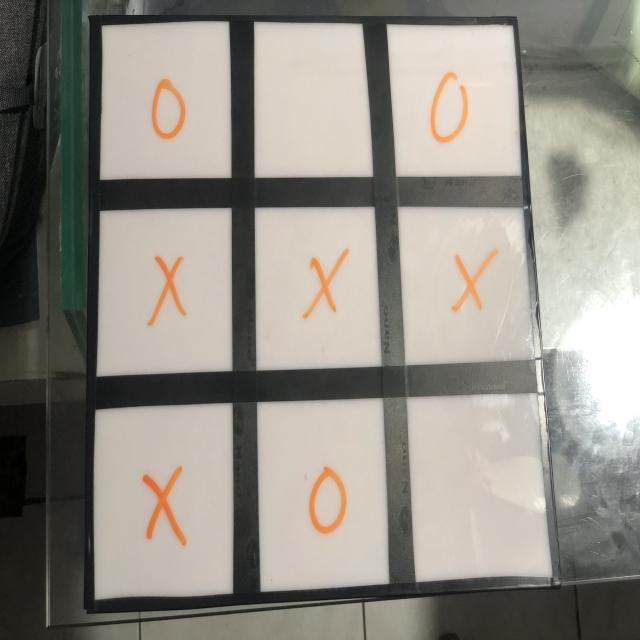null: (405, 387, 557, 587), (254, 22, 376, 181)
o: (427, 68, 471, 149), (304, 464, 350, 538), (147, 77, 187, 143)
x: (445, 239, 499, 317), (141, 470, 189, 550), (304, 247, 349, 319), (145, 249, 185, 320)
